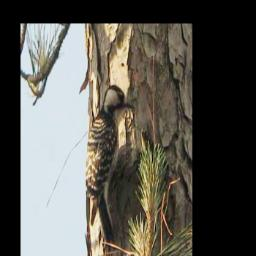Woodpecker: (85, 83, 135, 248)
